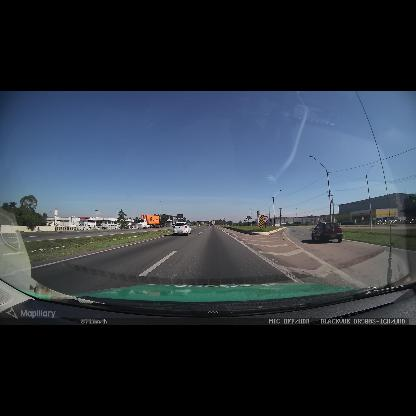O-MP: (259, 216, 263, 228)
R-19: (263, 216, 268, 222), (320, 218, 325, 223)
